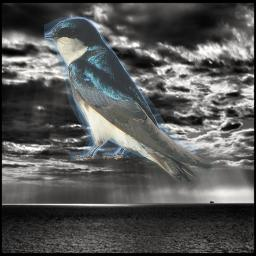Swallow: (44, 17, 216, 184)
